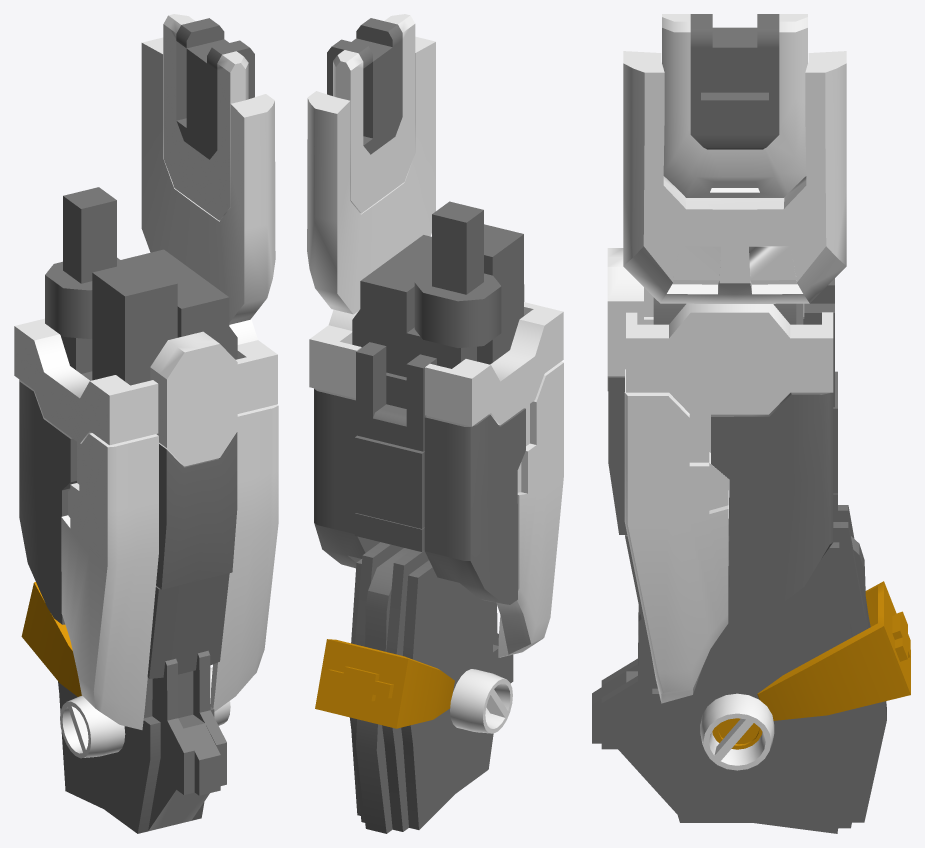
File: uleftleg.obj
3 views of the same model, side by side, from view 1: azimuth 30°, elevation 25°; view 2: azimuth 150°, elevation 25°; view 3: azimuth 270°, elevation 25° (orthographic). The views are drawn at different scales.
Visible parts, largest first — view 1: uleftleg; view 2: uleftleg; view 3: uleftleg.
Boxes of the visible parts, <box> form: uleftleg: <box>14,14,278,833</box>; uleftleg: <box>307,14,563,833</box>; uleftleg: <box>592,14,910,833</box>.
Size of the model in its own units: 2.49 by 10.33 by 3.58.
